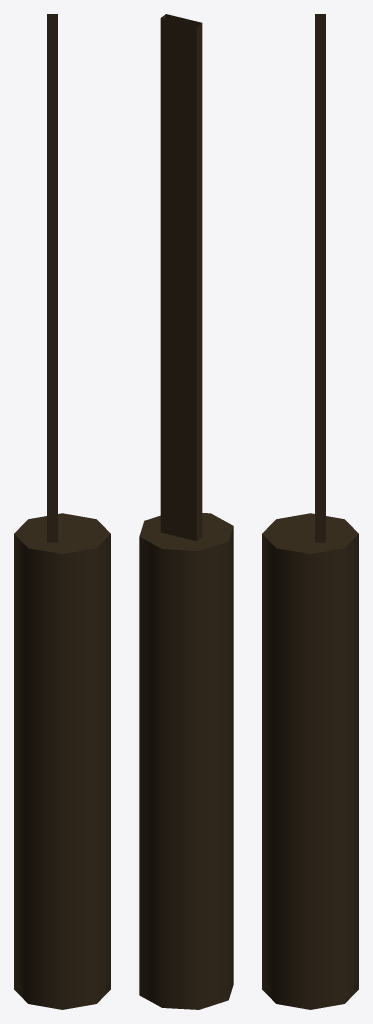
The model's file is Itr_Obj_Grandfatherclock2_Pendulum_02.FBX.
3 renders of one model, left to right at view 1: azimuth 90°, elevation 25°; view 2: azimuth 150°, elevation 25°; view 3: azimuth 270°, elevation 25°, orthographic.
Visible parts, largest first — view 1: Itr_Obj_Grandfatherclock2_Pendulum_02; view 2: Itr_Obj_Grandfatherclock2_Pendulum_02; view 3: Itr_Obj_Grandfatherclock2_Pendulum_02.
Boxes of the visible parts, x1=… form: Itr_Obj_Grandfatherclock2_Pendulum_02: x1=14, y1=14, x2=110, y2=1009; Itr_Obj_Grandfatherclock2_Pendulum_02: x1=139, y1=14, x2=233, y2=1009; Itr_Obj_Grandfatherclock2_Pendulum_02: x1=262, y1=14, x2=358, y2=1009.
Size of the model in its own units: 1.32 by 14.54 by 1.32.
